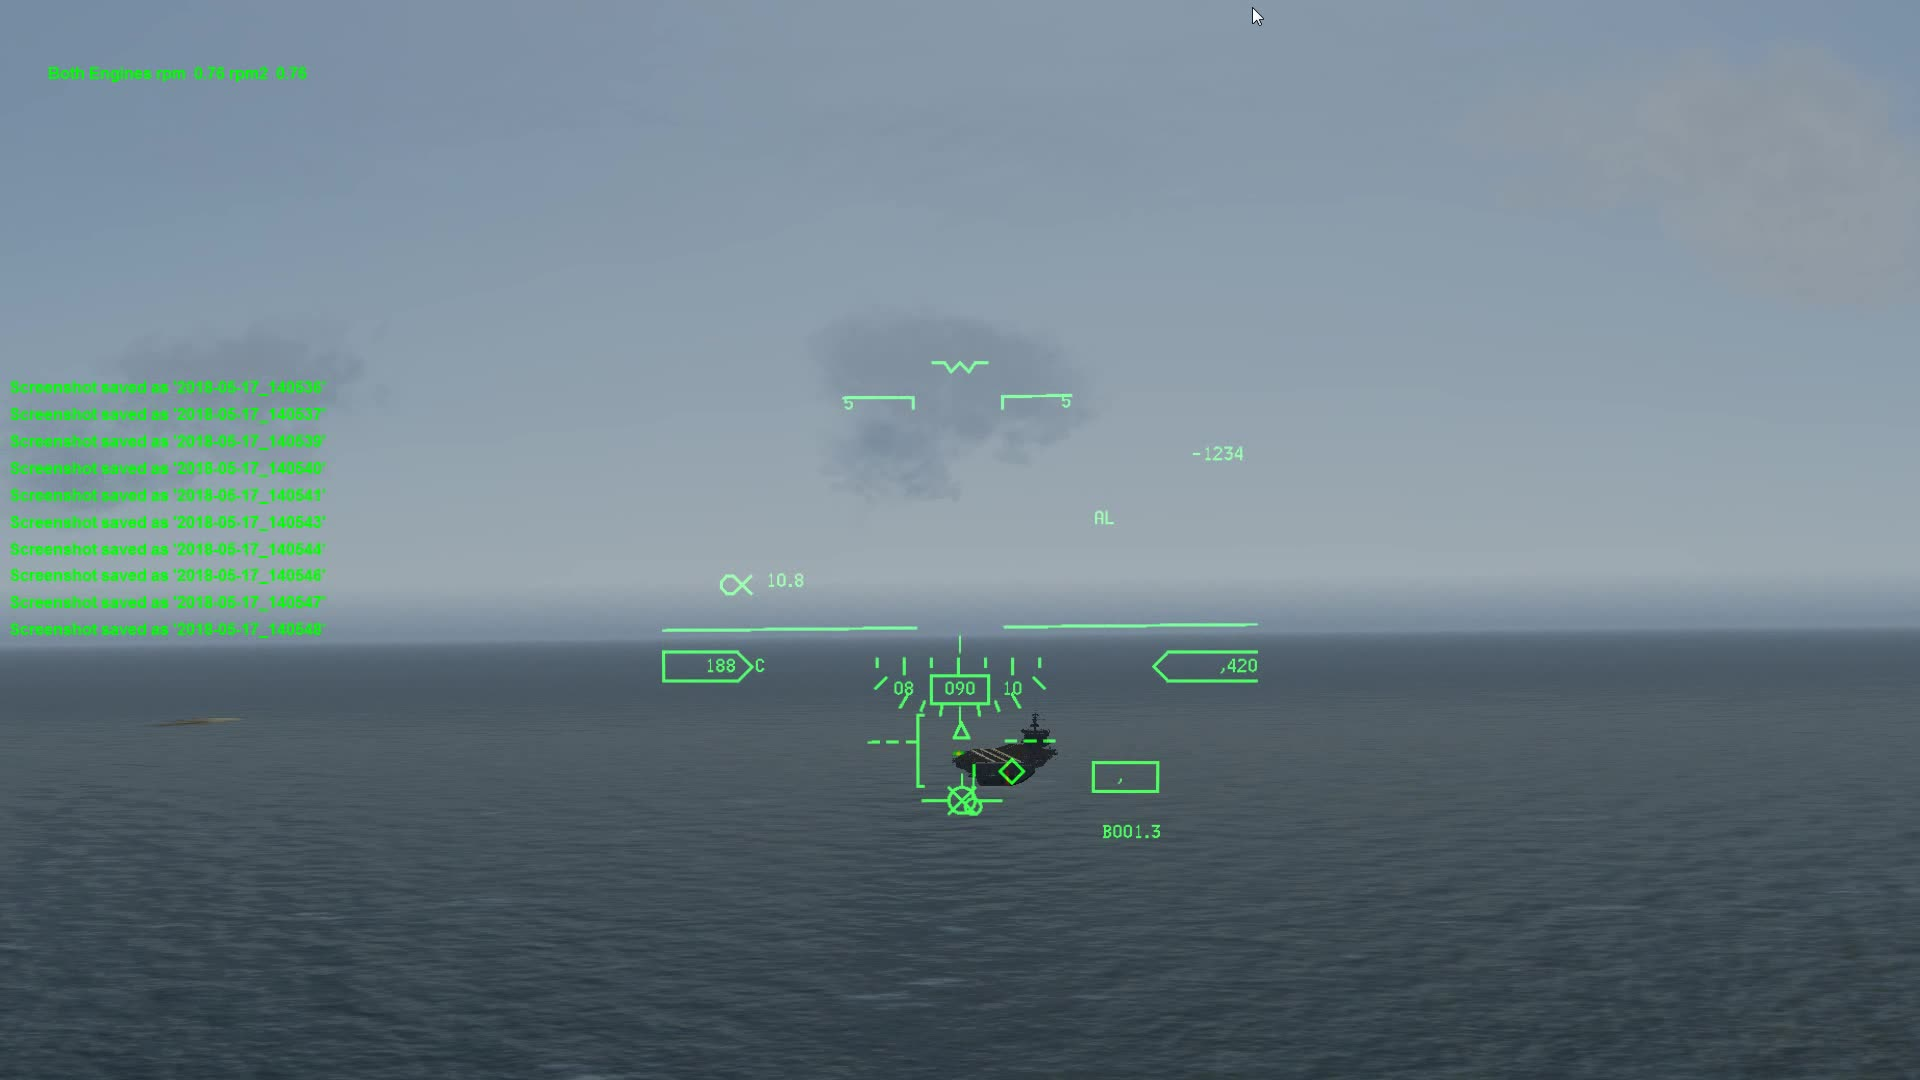speed vector: (916, 771, 1007, 819)
